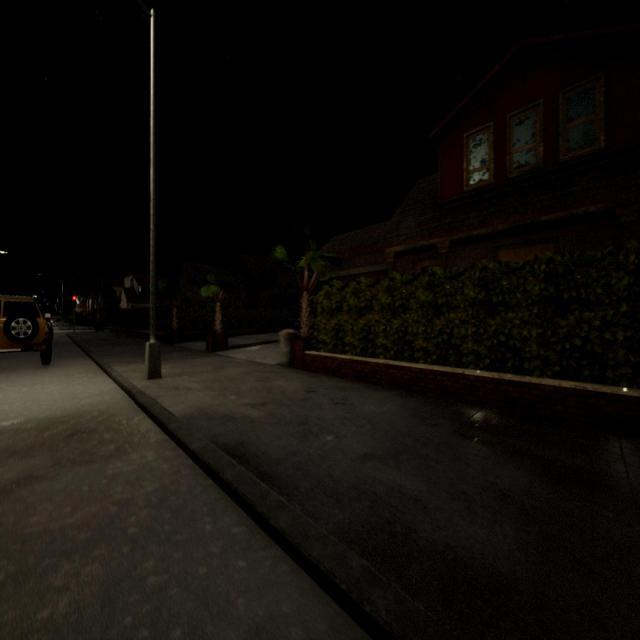Vehicle: (0, 295, 53, 364)
traffic_light: (72, 294, 76, 310)
